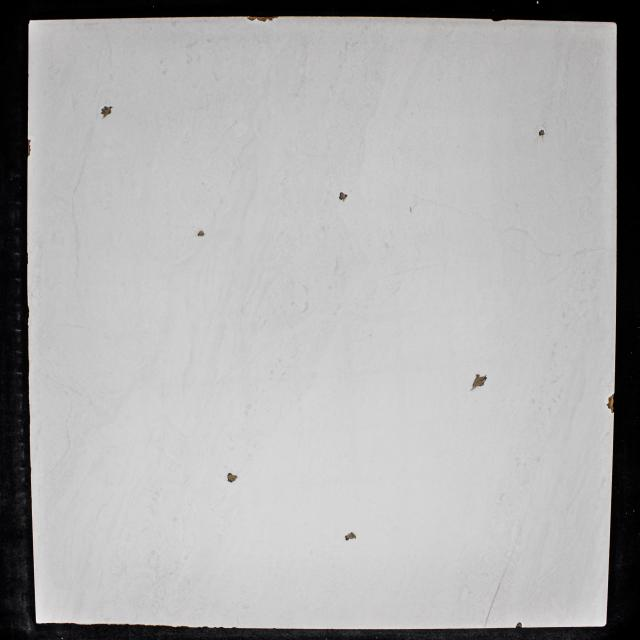edge-chipping: (246, 16, 279, 22), (606, 393, 615, 414), (27, 139, 31, 157), (515, 622, 523, 628), (490, 18, 502, 22)
hole: (469, 372, 488, 392), (100, 105, 114, 119), (337, 191, 349, 203), (226, 472, 238, 484), (344, 532, 358, 541), (196, 230, 206, 238), (538, 129, 545, 137)
line: (484, 568, 506, 628), (506, 524, 523, 567)
